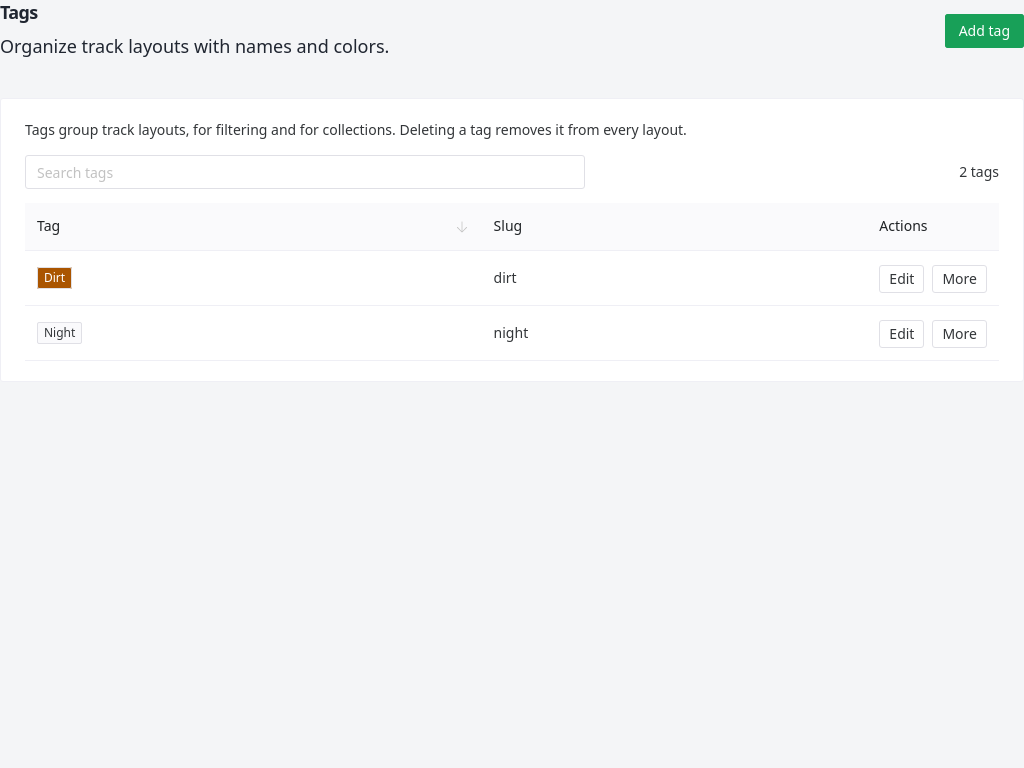
TagsView › adds a tag, with a slug made from its name
Click the button "Add tag" at {"x": 984, "y": 31}, box [945,14,1023,48]
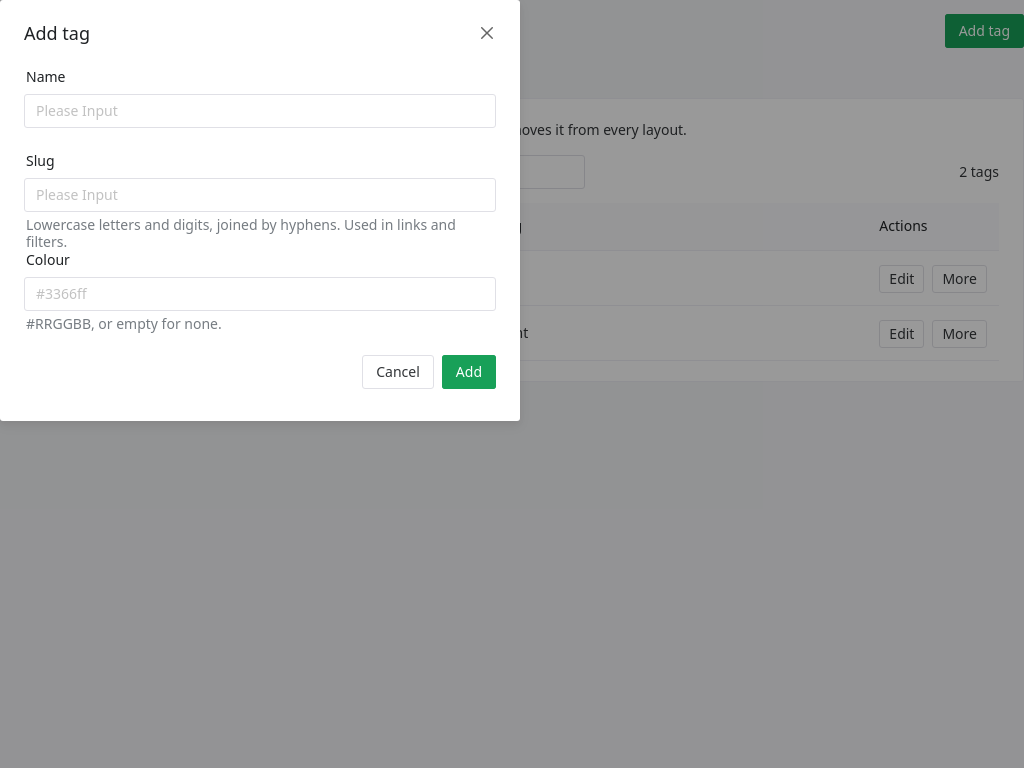
Type "Snow & Ice" into the field named "Name" at {"x": 260, "y": 111}, box [36,94,484,128]
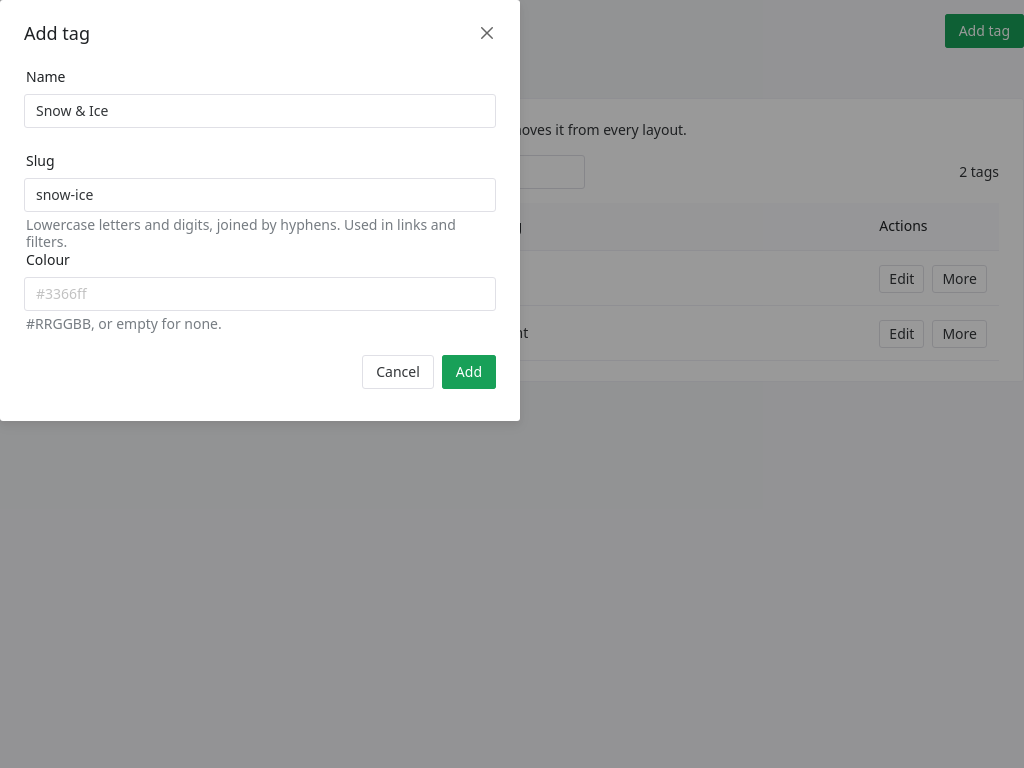
Expected: the field named "Slug" holds "snow-ice", [36,178,484,212]
Click the button "Add" at {"x": 469, "y": 372}, box [442,355,496,389]
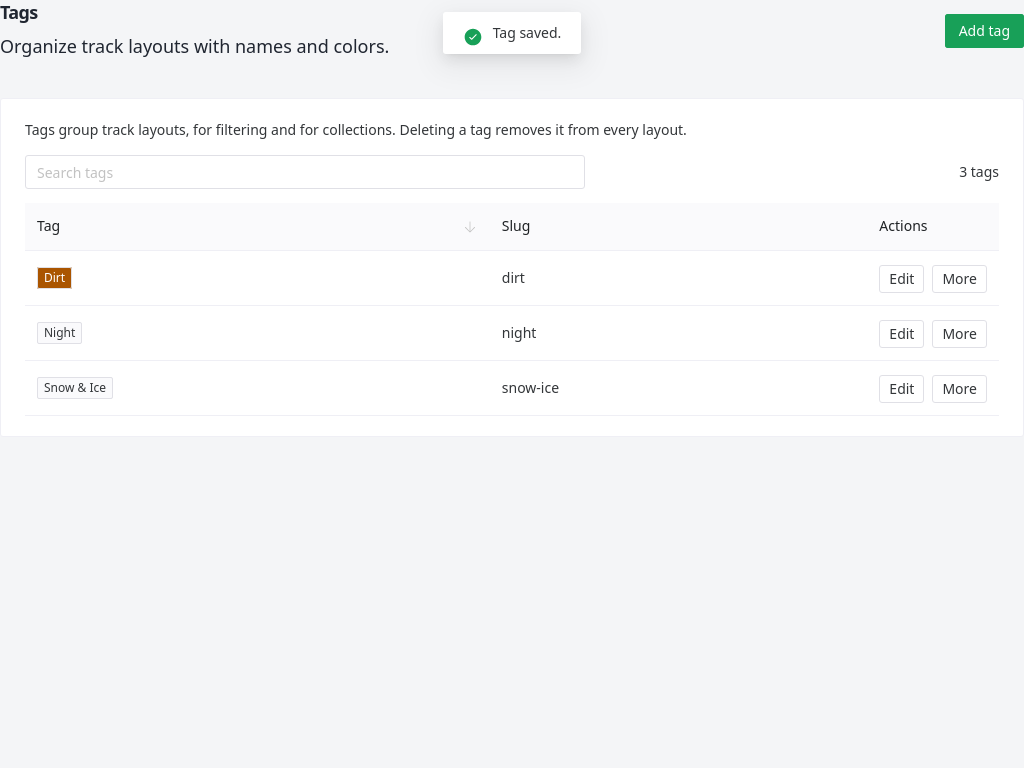
Expected: the text "Snow & Ice" is shown, [44,382,106,394]
Expected: the text "Tag saved." is shown, [493,22,561,44]
